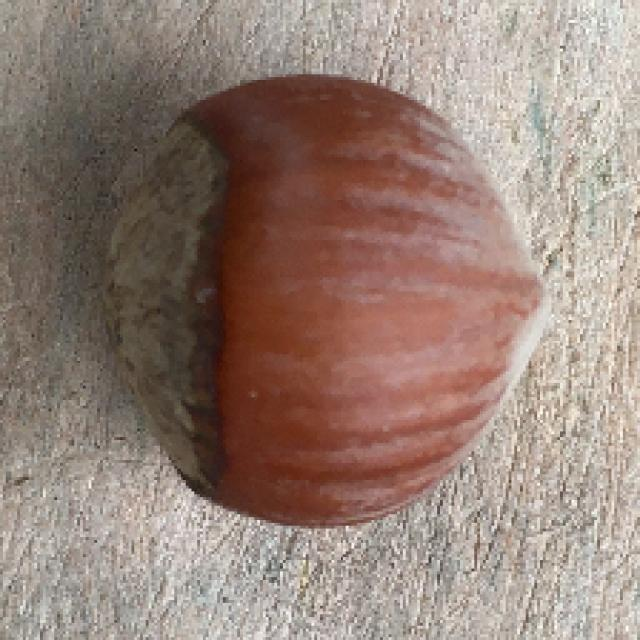qualityHazelnut: (85, 80, 552, 520)
